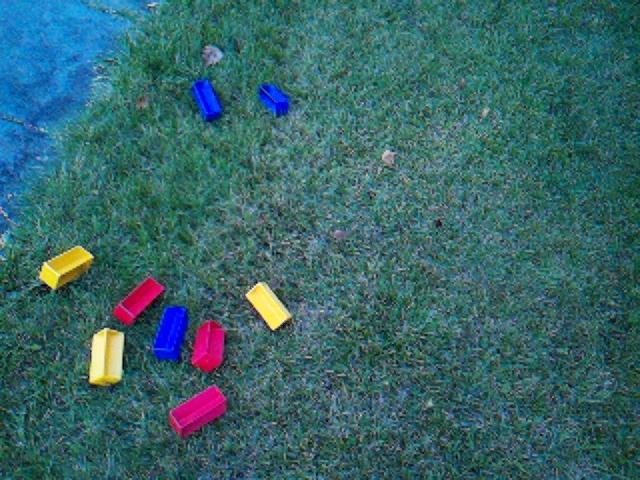blue: (152, 306, 190, 362), (191, 80, 224, 124), (259, 85, 291, 118)
red: (169, 384, 228, 437), (115, 277, 165, 327), (192, 322, 226, 374)
yellow: (40, 246, 96, 292), (246, 282, 293, 332), (89, 328, 126, 388)
